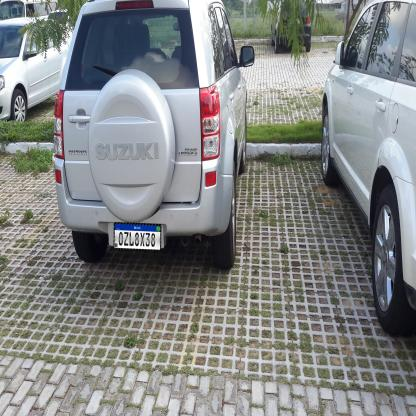PlacaM: (113, 222, 162, 252)
